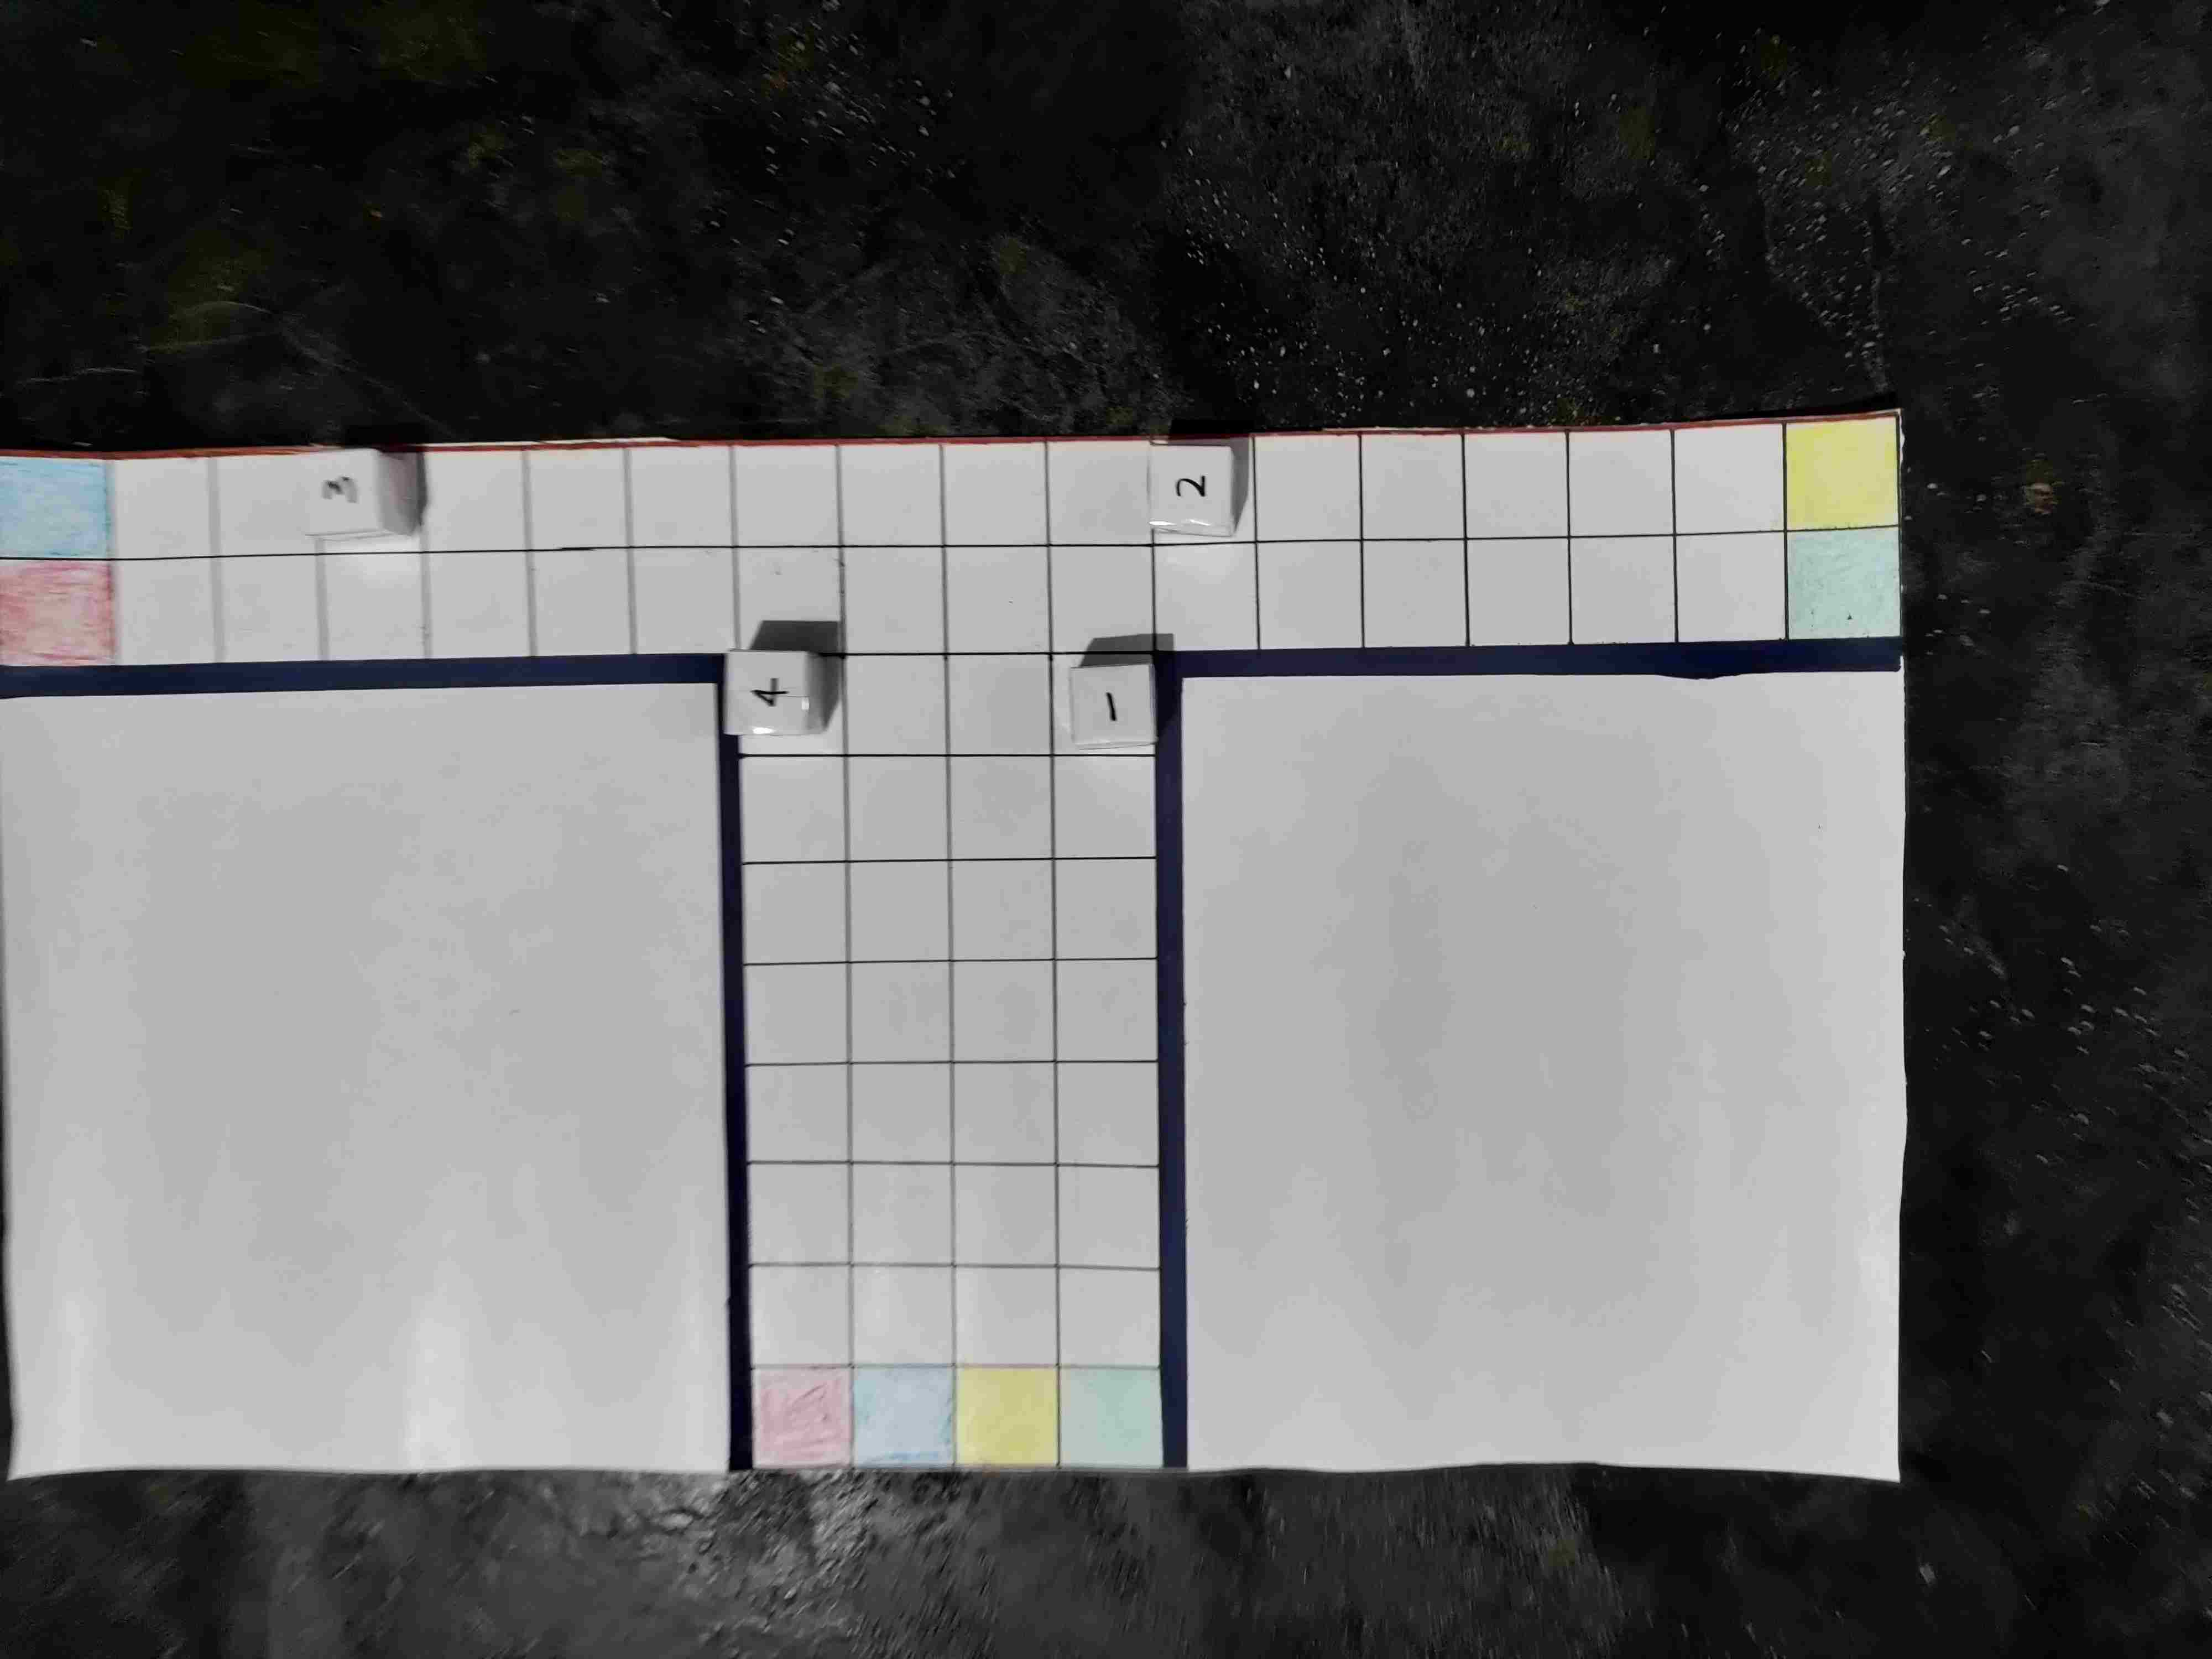arena: (0, 416, 1897, 1480)
bot: (728, 648, 812, 741), (1069, 666, 1160, 744), (303, 450, 380, 532), (1155, 448, 1233, 526)
